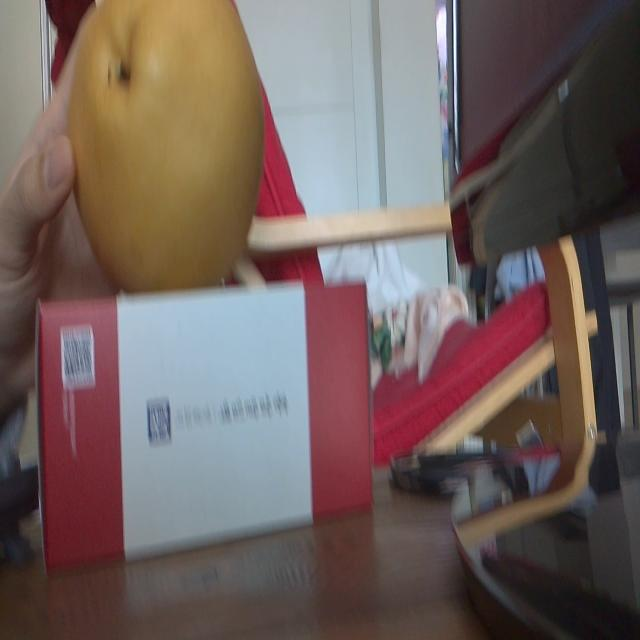pear: (65, 0, 264, 293)
